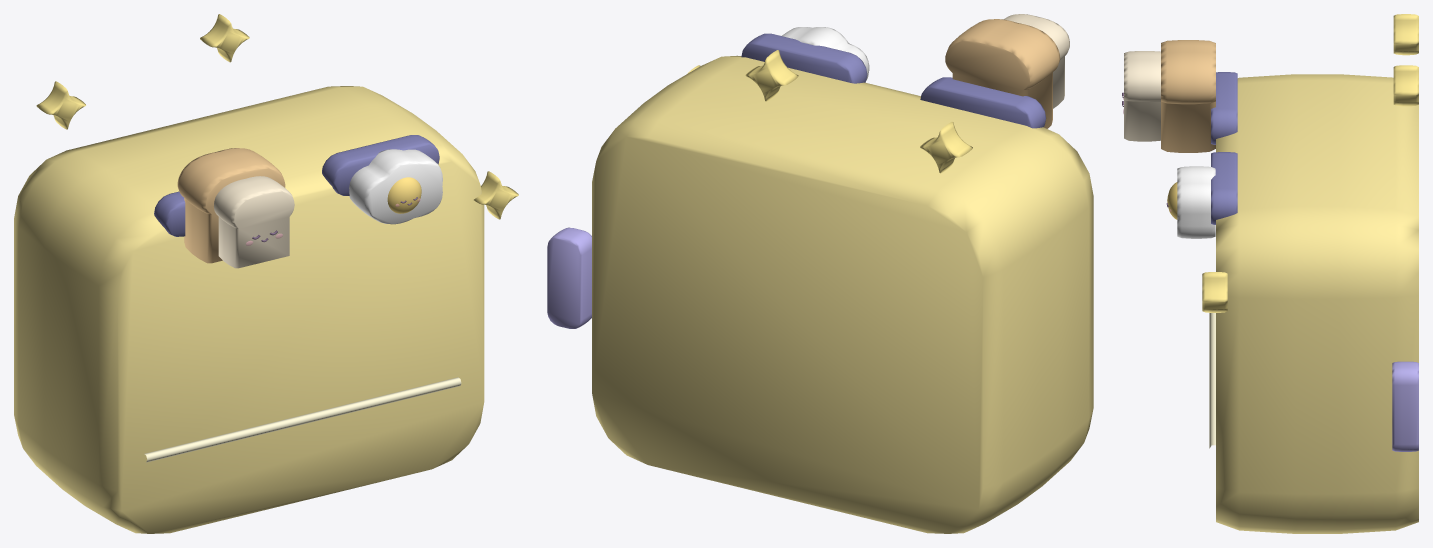
The model's file is decor_2_star.glb.
3 renders of one model, left to right at view 1: azimuth 30°, elevation 25°; view 2: azimuth 150°, elevation 25°; view 3: azimuth 270°, elevation 25°, orthographic. The views are drawn at different scales.
Visible parts, largest first — view 1: decor_2_star; view 2: decor_2_star; view 3: decor_2_star.
Boxes of the visible parts, bbox=[...] form: decor_2_star: bbox=[14, 14, 518, 533]; decor_2_star: bbox=[547, 14, 1093, 533]; decor_2_star: bbox=[1122, 14, 1418, 533].
Size of the model in its own units: 16.04 by 15.28 by 10.03.
